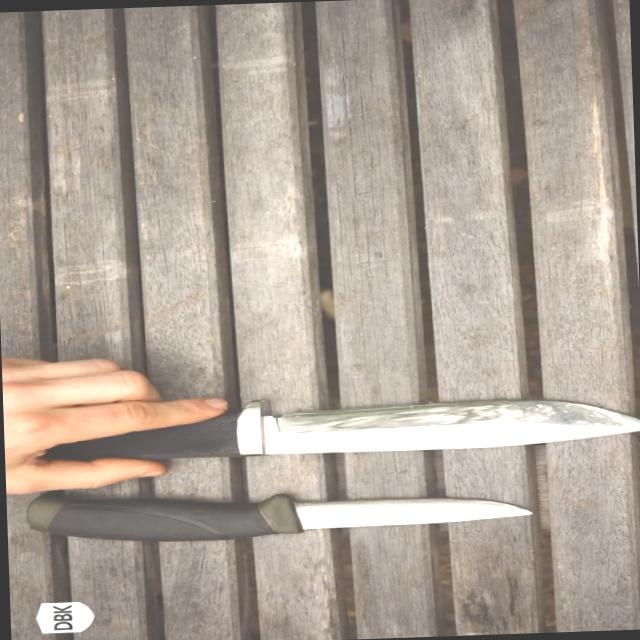knife: (132, 347, 639, 480), (246, 476, 544, 546)
